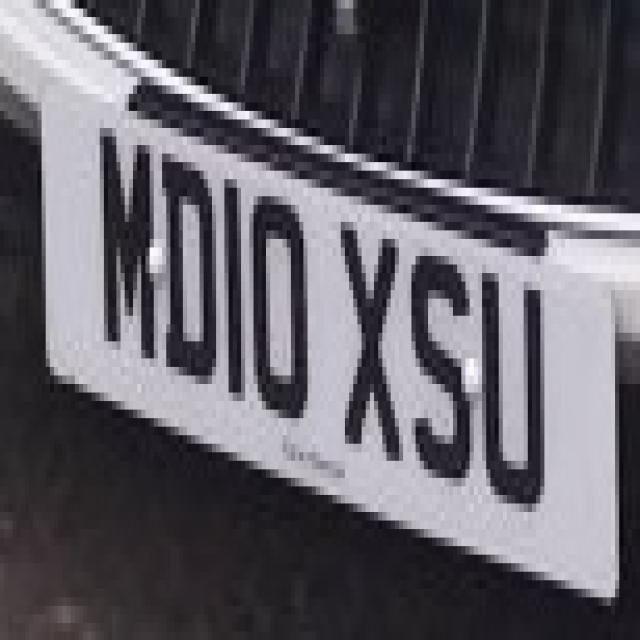0: (237, 170, 316, 418)
D: (150, 128, 224, 384)
M: (79, 102, 158, 358)
S: (395, 230, 474, 478)
U: (466, 247, 544, 503)
X: (324, 196, 403, 461)
